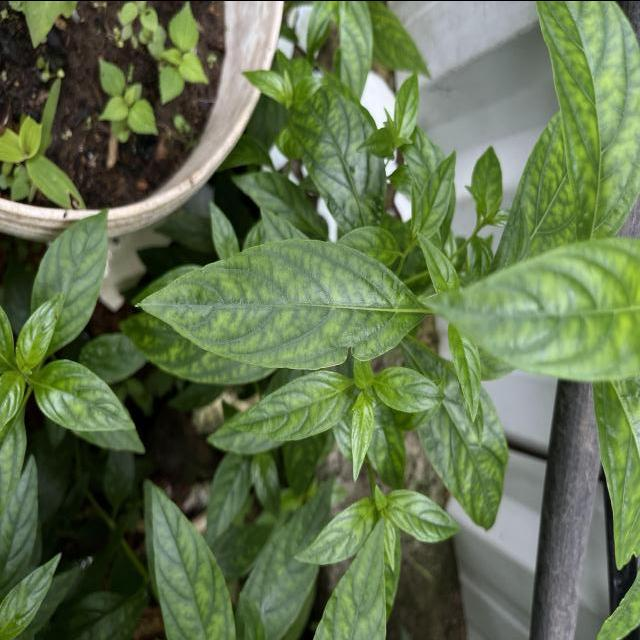Andrographis paniculata: (134, 235, 430, 372), (23, 204, 113, 354), (224, 366, 354, 442), (31, 357, 136, 435), (292, 494, 374, 564), (410, 150, 460, 236), (384, 487, 462, 542), (446, 323, 483, 425), (374, 366, 447, 412)
